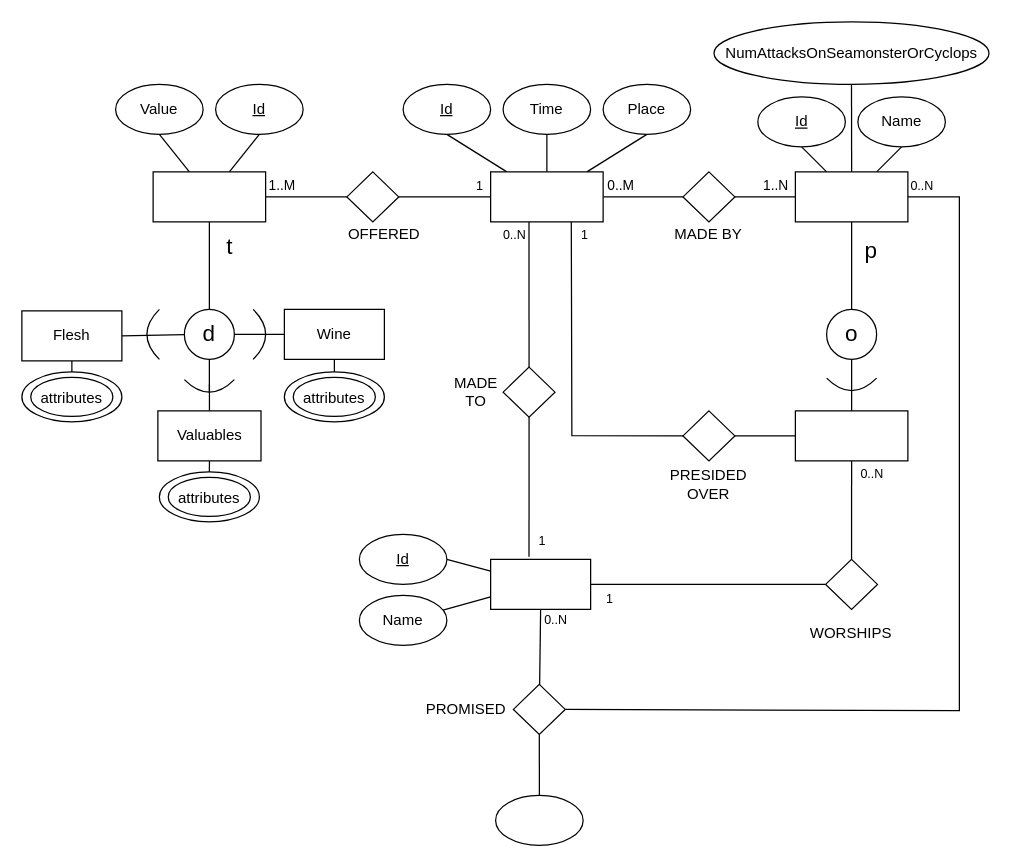
Some shapes in this 1011 by 868 pixel diagram are drawn without their labels. Each missing label, with the centre of its shape:
Description: point 538,819
God: point 540,583
Human: point 851,196
Offering: point 209,196
Priest: point 851,435
Sacrifice: point 546,196
